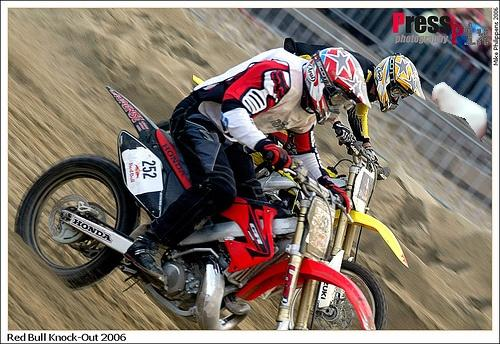tampered: (433, 83, 487, 143)
